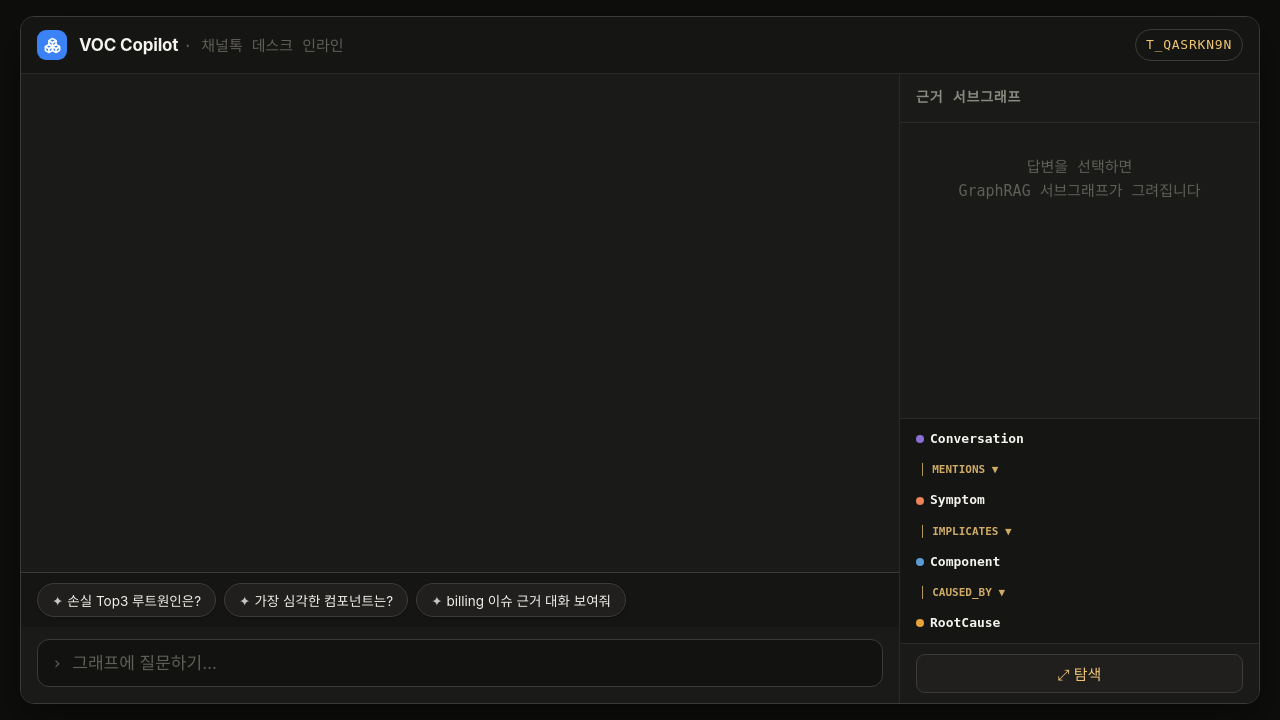
it: App › should switch to the console view when EvidencePanel '⤢ 탐색' is clicked
Step 1. Click the button "⤢ 탐색" → (1080, 674), box x1=916 y1=654 x2=1243 y2=693
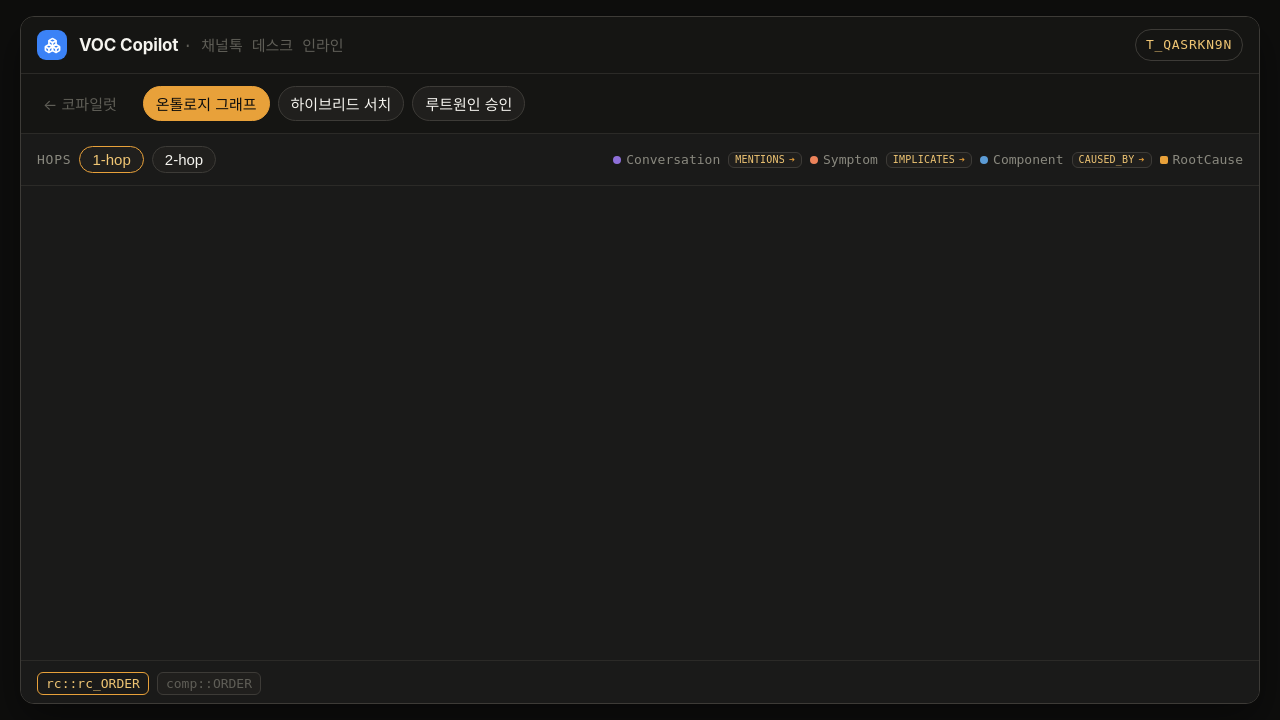
Expected: the field with placeholder "질문" is not shown
Result: the element with test id "console-view" is shown
